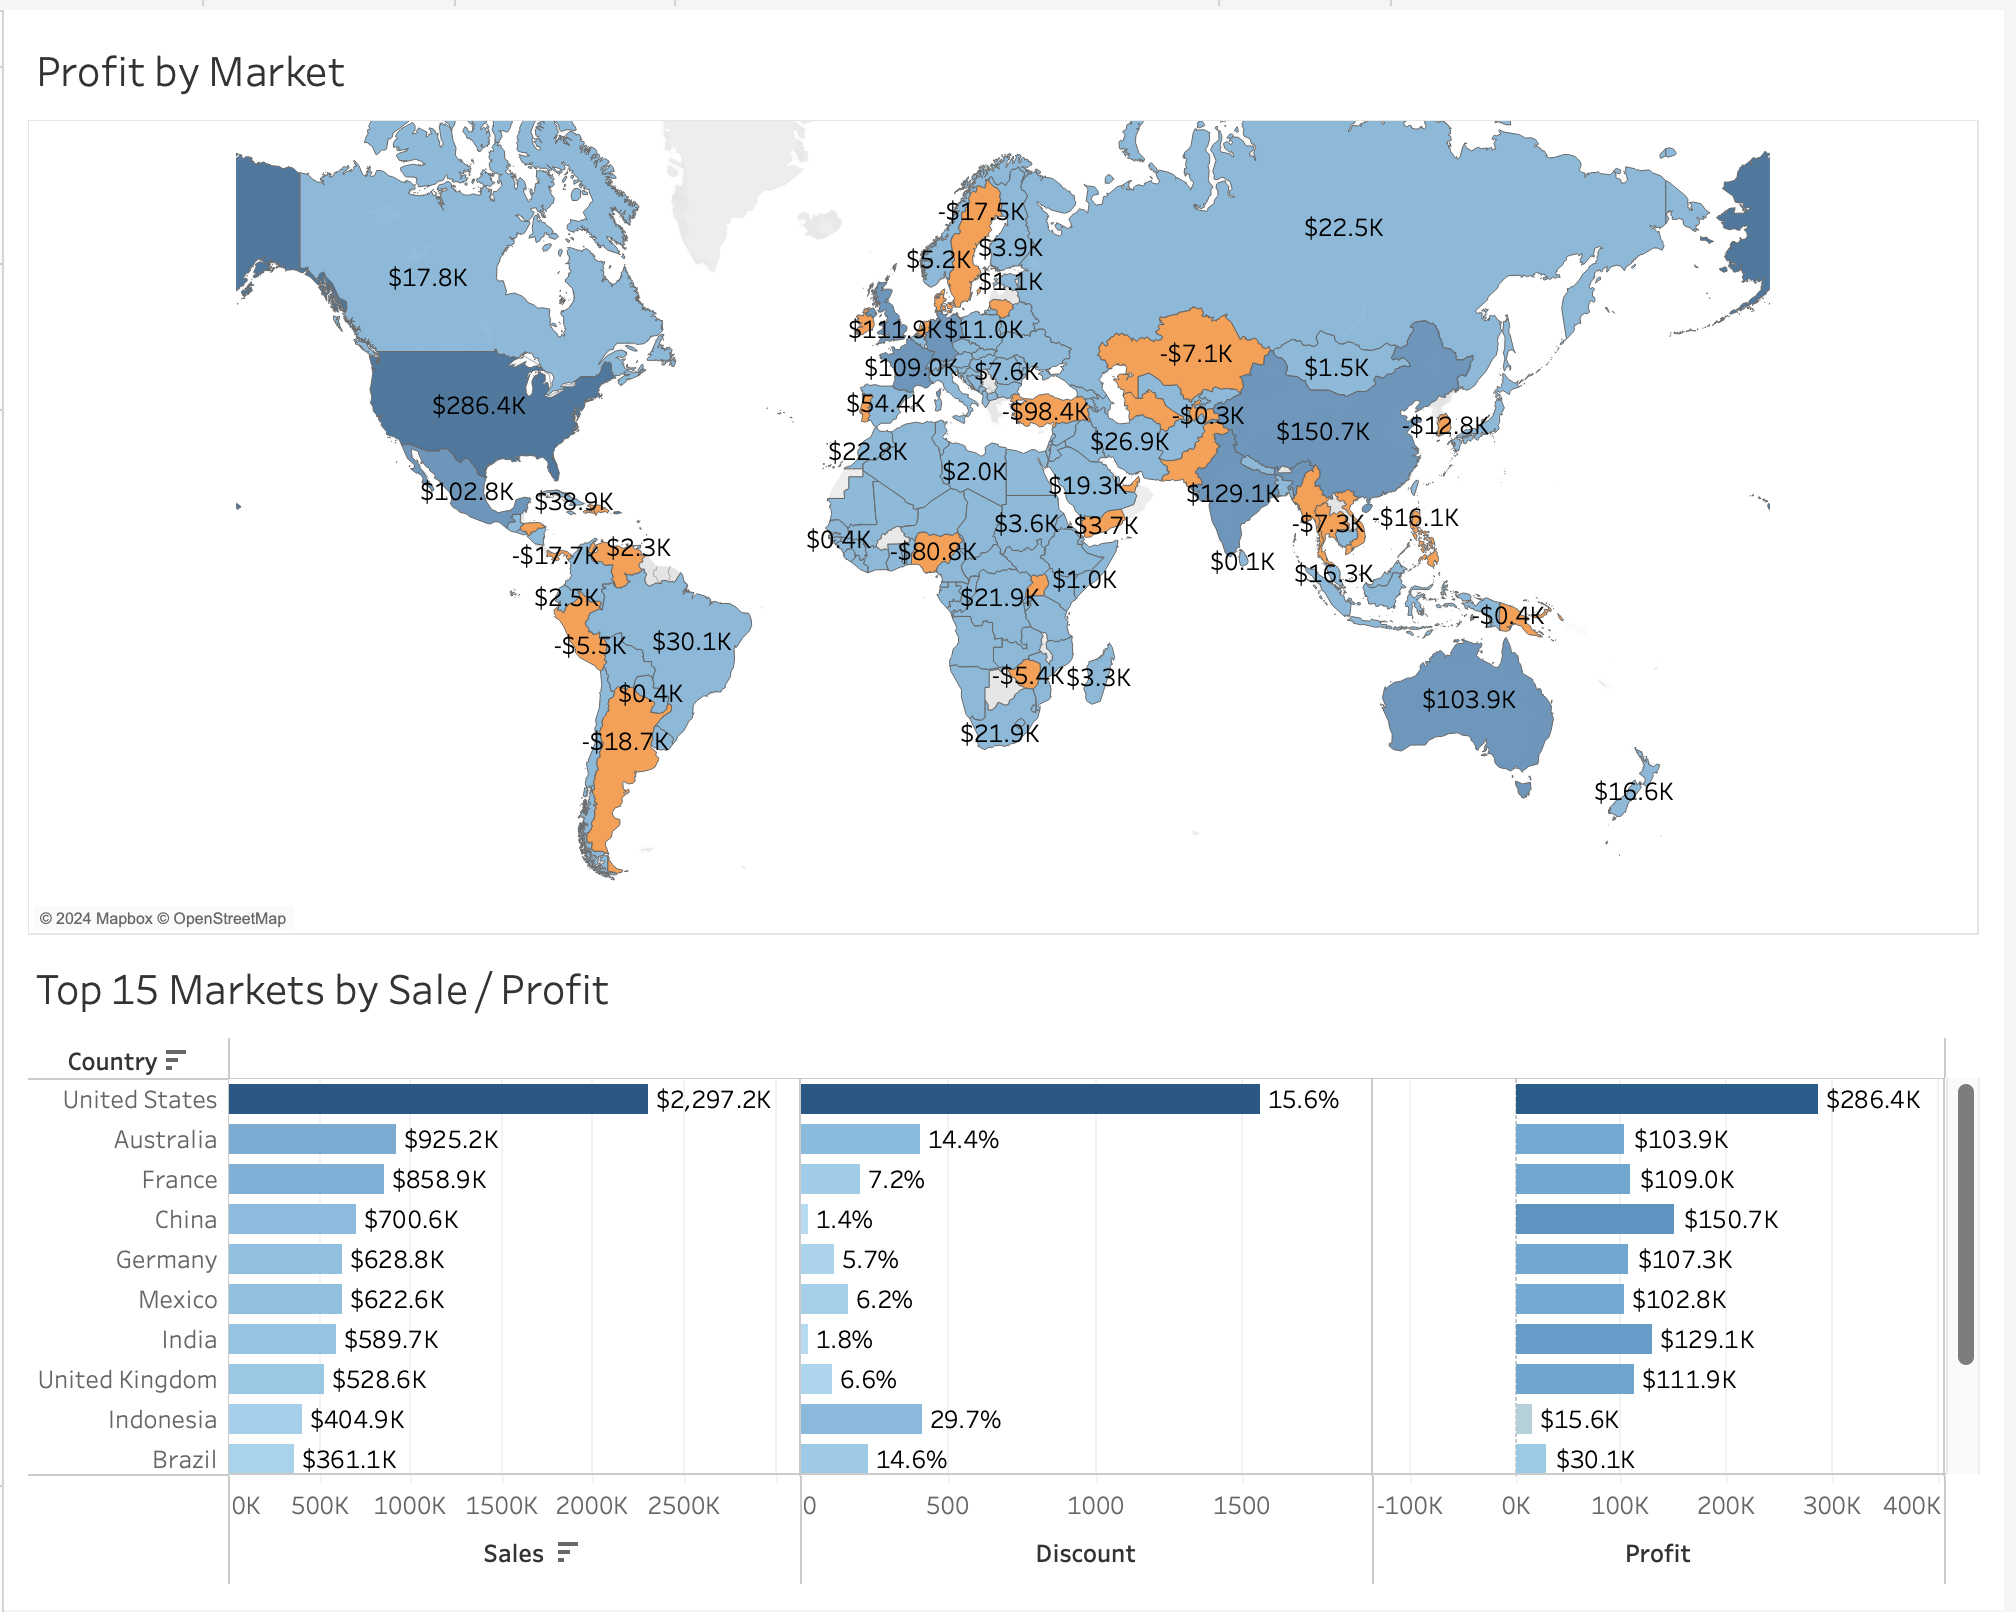

Layout of this report page (visuals, bound fields, positions):
{"tool":"tableau","page":{"name":"Profit By Market Dashboard","canvas":[1000,800],"ordinal":1},"visuals":[{"type":"worksheet","title":"Profit by Market","mark":"Multipolygon","box":[8,8,984,459]},{"type":"worksheet","title":"Top 15 Markets by Sale / Profit ","mark":"Automatic","rows":["Country"],"cols":["Sales","Discount","Profit"],"box":[8,467,984,325]}]}

Visuals, with their boxes in screenshot pixels (x1, y1, x2, y2), scaled from the page's 1000x800 canvas onto the 2016x1612 screenshot:
"Profit by Market" worksheet (Multipolygon marks): bbox=[16, 16, 2000, 941]
"Top 15 Markets by Sale / Profit " worksheet: bbox=[16, 941, 2000, 1596]
